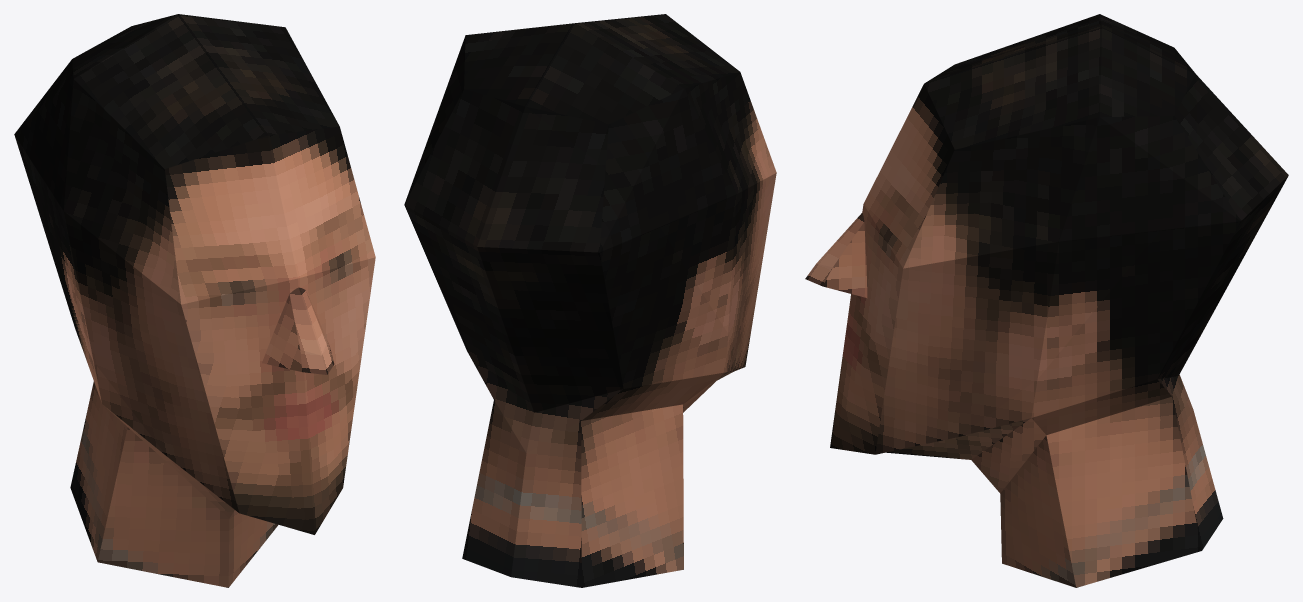
The model's file is me-finished100px.glb.
The picture shows the model from 3 angles, left to right: view 1: azimuth 30°, elevation 25°; view 2: azimuth 150°, elevation 25°; view 3: azimuth 270°, elevation 25°; orthographic projection. The views are drawn at different scales.
Visible parts, largest first — view 1: head; view 2: head; view 3: head.
Part boxes in pixels (box(x1,y1,x2,y2)): head: box(14, 14, 375, 587); head: box(404, 14, 776, 587); head: box(805, 14, 1288, 587).
Size of the model in its own units: 0.2779 by 0.5232 by 0.428.
1 material, 1 textured.
